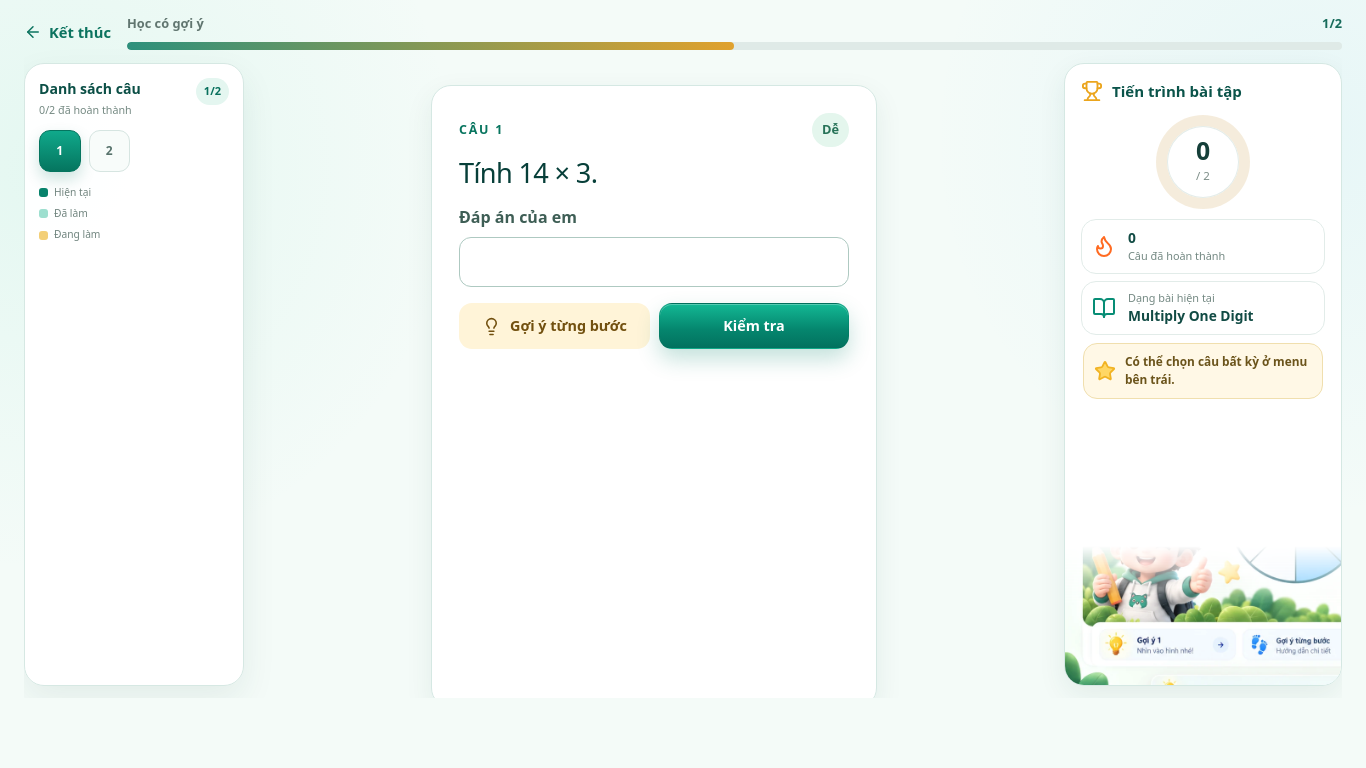
Test: unfinished session History regression › keeps the Practice navigator alive and autosaves WRONG + WORKING per question
The width and height of the screenshot is (1366, 768).
Expected: the heading "Tính 14 × 3." is shown, x1=459 y1=154 x2=597 y2=190
Expected: the text "0/2 đã hoàn thành" is shown, x1=39 y1=102 x2=141 y2=118
In the field labelled "Đáp án của em": (654, 262) x1=459 y1=237 x2=849 y2=287, type "41"
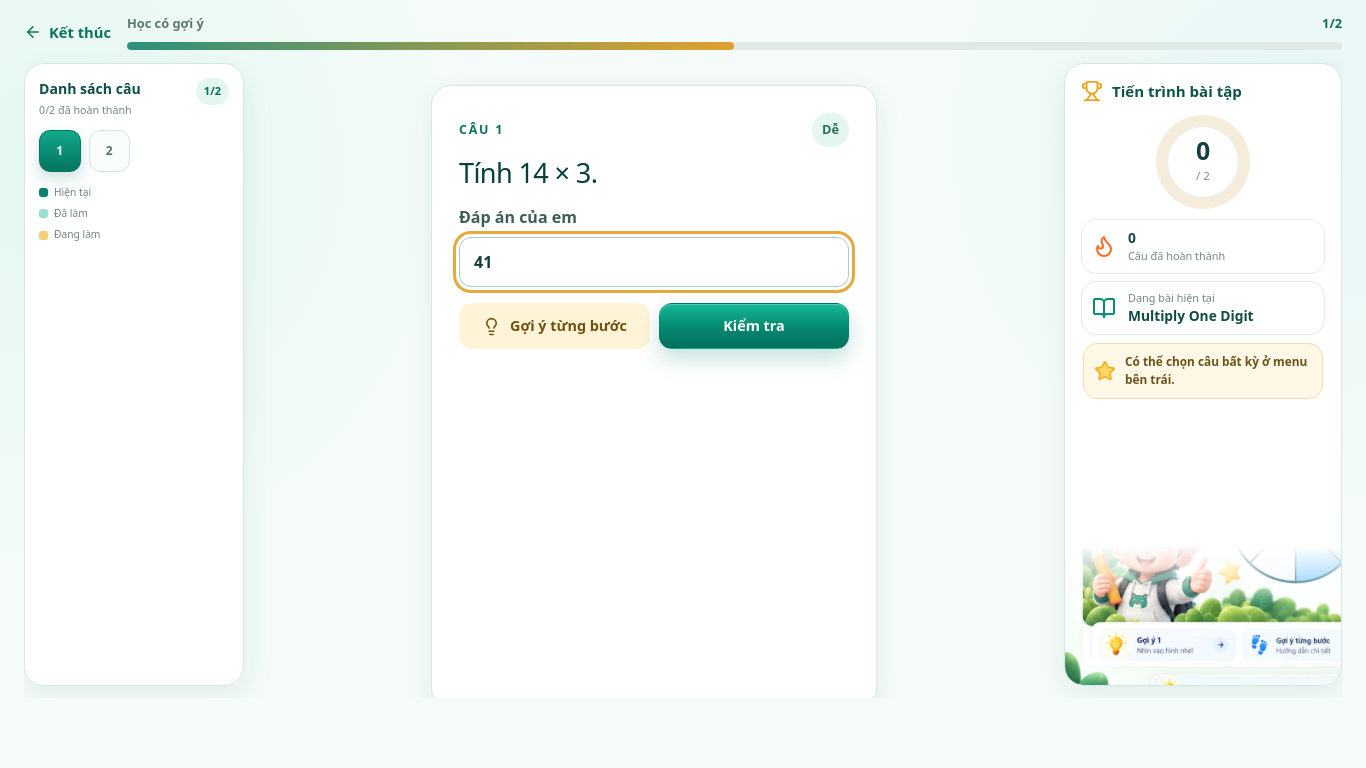
Click the button "Kiểm tra": (754, 326) x1=659 y1=303 x2=849 y2=349
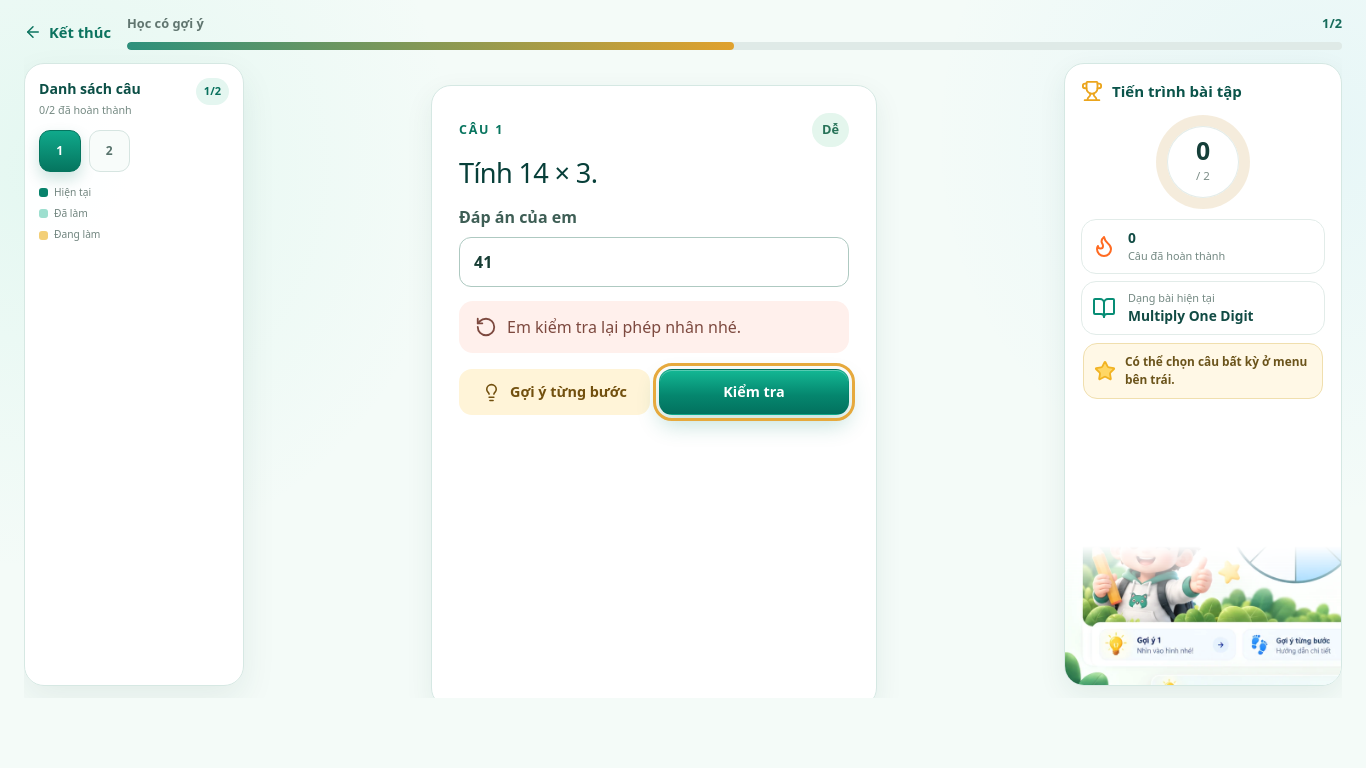
Expected: the message reads "Em kiểm tra lại phép nhân nhé.", x1=507 y1=316 x2=741 y2=338
Click the button named "Câu 2 chưa làm": (109, 151) x1=88 y1=130 x2=130 y2=172
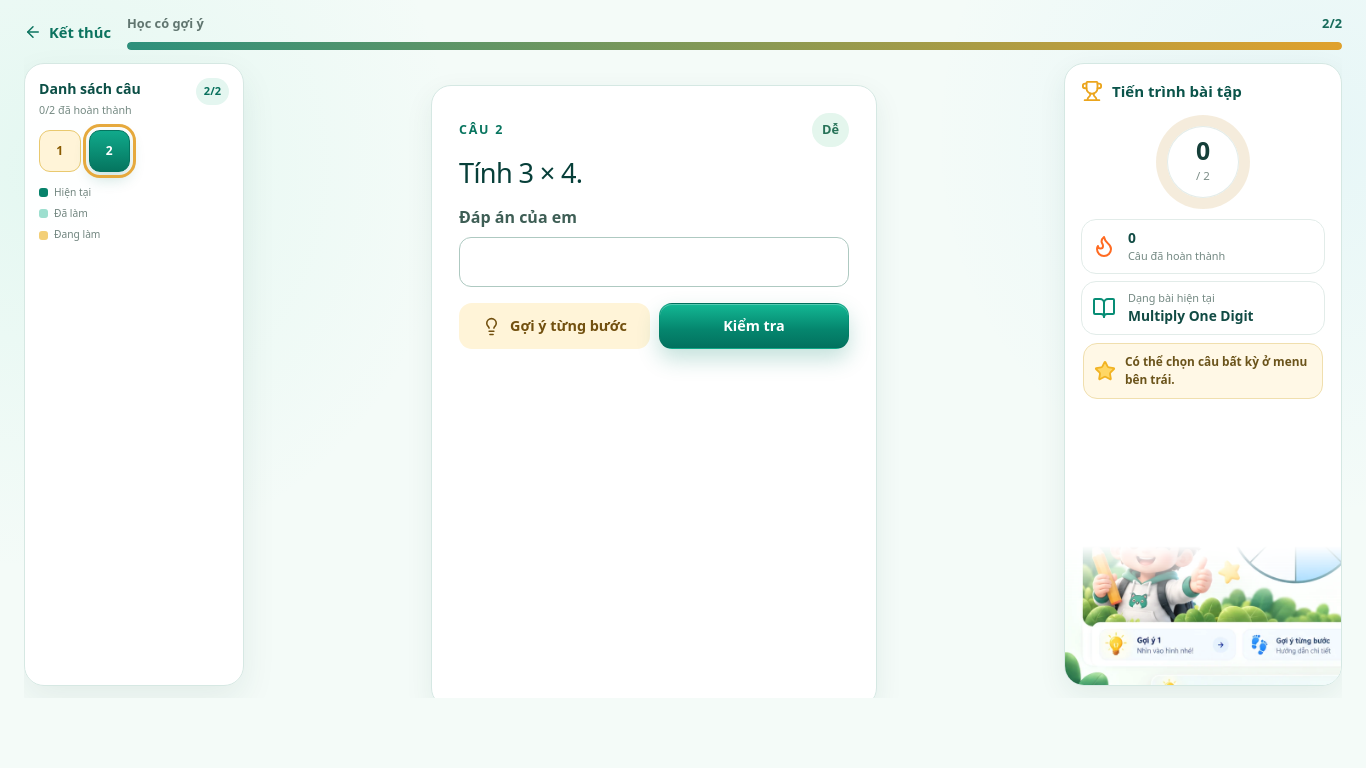
Expected: the heading "Tính 3 × 4." is shown, x1=459 y1=154 x2=582 y2=190
